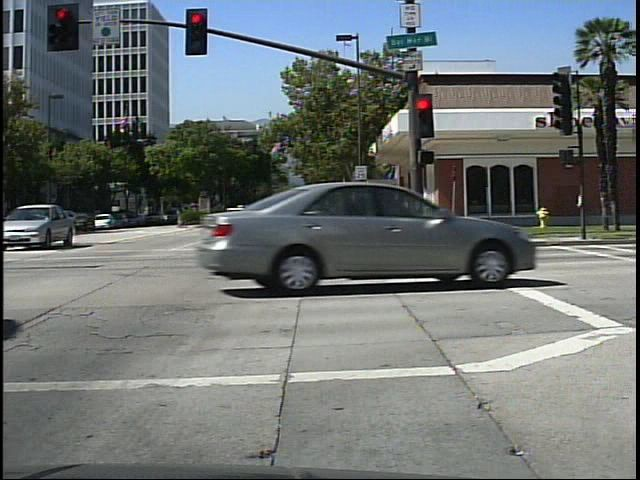person: (275, 204, 288, 223)
